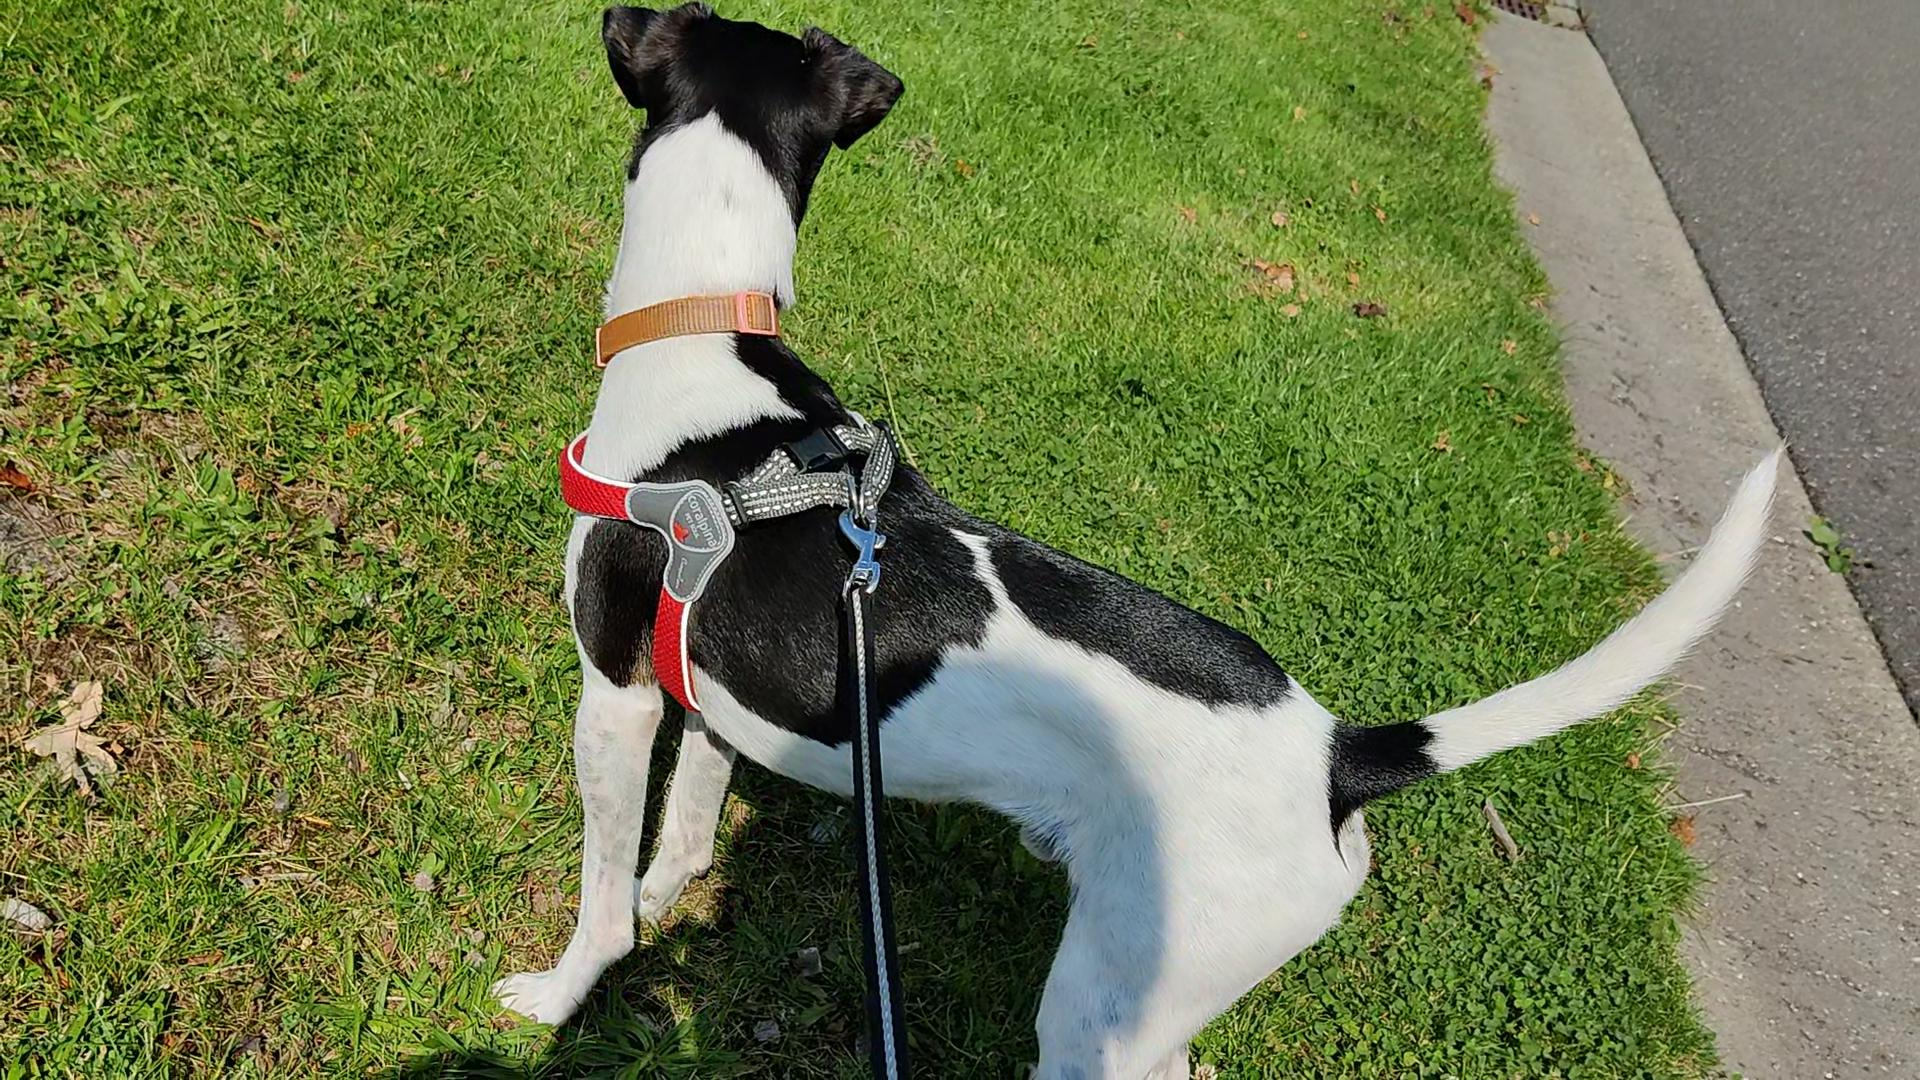Dog: (477, 0, 1792, 1079)
